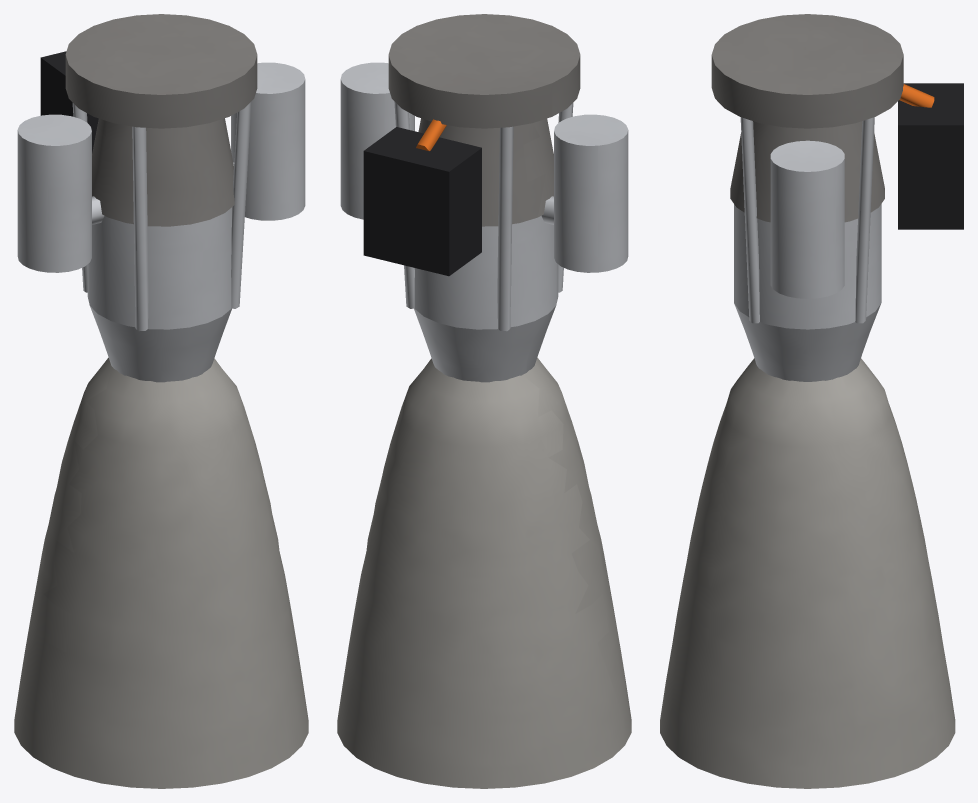
The model's file is prop15_electric_pump_kerolox_sl.glb.
3 renders of one model, left to right at view 1: azimuth 30°, elevation 25°; view 2: azimuth 150°, elevation 25°; view 3: azimuth 270°, elevation 25°, orthographic.
Parts seen in each view (by area): view 1: bell, electric_pumps, chamber, mount, injector_dome, thrust_struts, inverter; view 2: bell, mount, electric_pumps, chamber, inverter, injector_dome, thrust_struts; view 3: bell, mount, chamber, electric_pumps, inverter, injector_dome, thrust_struts, power_cable.
Part boxes in pixels (x1,y1,x2,y2): bell: (14, 357, 308, 788); electric_pumps: (17, 62, 305, 272); chamber: (87, 207, 231, 382); mount: (65, 14, 257, 128); injector_dome: (92, 118, 234, 226); thrust_struts: (72, 101, 251, 331); inverter: (40, 51, 98, 153); bell: (337, 357, 631, 788); mount: (388, 14, 580, 128); electric_pumps: (340, 62, 628, 272); chamber: (414, 215, 558, 382); inverter: (363, 127, 481, 276); injector_dome: (418, 118, 553, 226); thrust_struts: (394, 101, 573, 331); bell: (660, 358, 955, 788); mount: (711, 14, 903, 128); chamber: (734, 204, 881, 381); electric_pumps: (770, 140, 844, 298); inverter: (898, 83, 963, 229); injector_dome: (730, 121, 884, 222); thrust_struts: (740, 117, 874, 323); power_cable: (899, 84, 934, 107).
Size of the model in its own units: 0.3891 by 0.9 by 0.3688.
5 materials, 3 textured.
